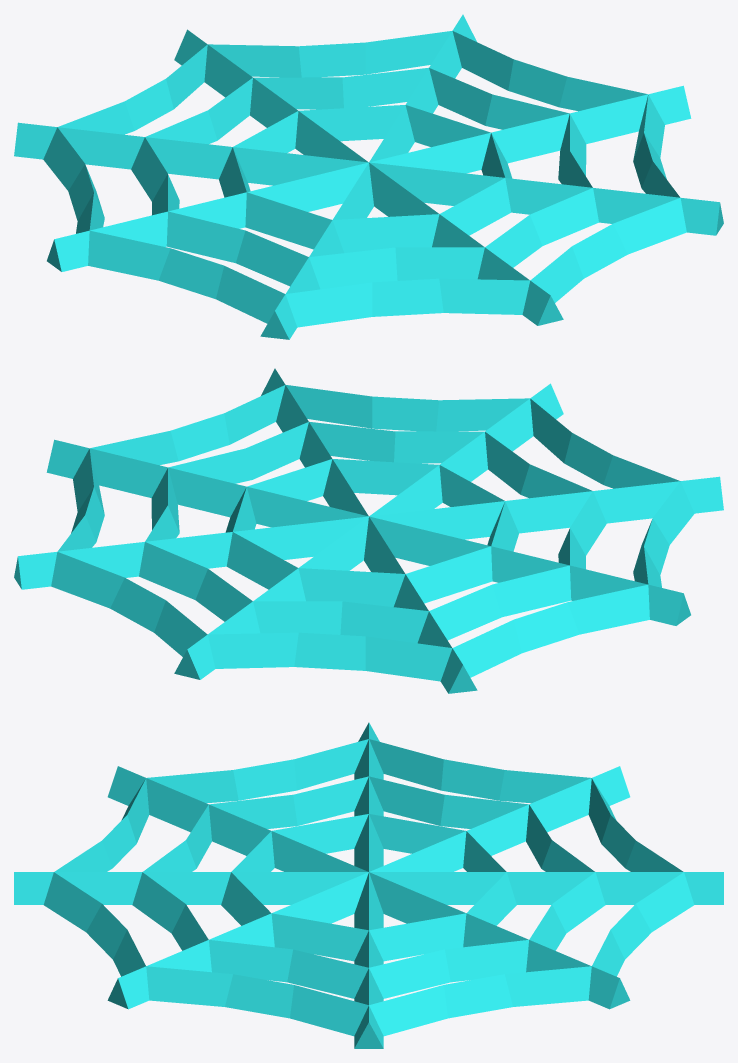
Rendered from Siec.fbx.
3 renders of one model, top to bottom at view 1: azimuth 30°, elevation 25°; view 2: azimuth 150°, elevation 25°; view 3: azimuth 270°, elevation 25°, orthographic. The views are drawn at different scales.
Parts seen in each view (by area): view 1: Cylinder; view 2: Cylinder; view 3: Cylinder.
Part boxes in pixels (x1,y1,x2,y2): Cylinder: [14, 14, 723, 339]; Cylinder: [14, 368, 723, 693]; Cylinder: [14, 722, 723, 1048].
Size of the model in its own units: 480 by 20 by 480.
